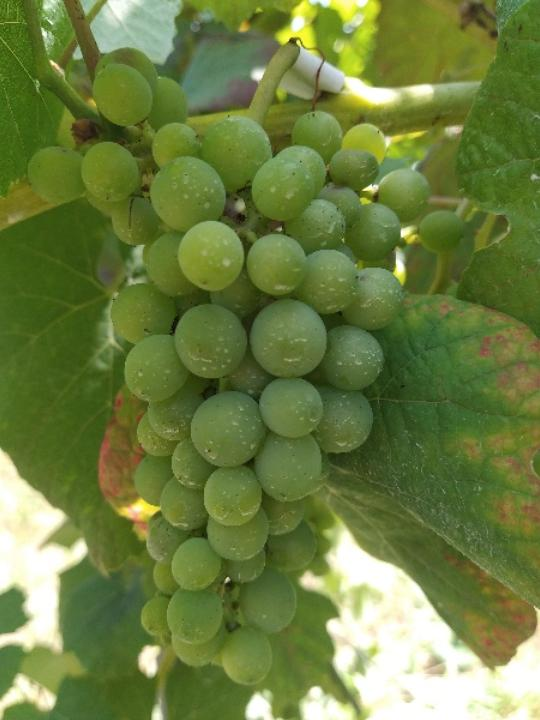grape: (16, 43, 462, 693)
